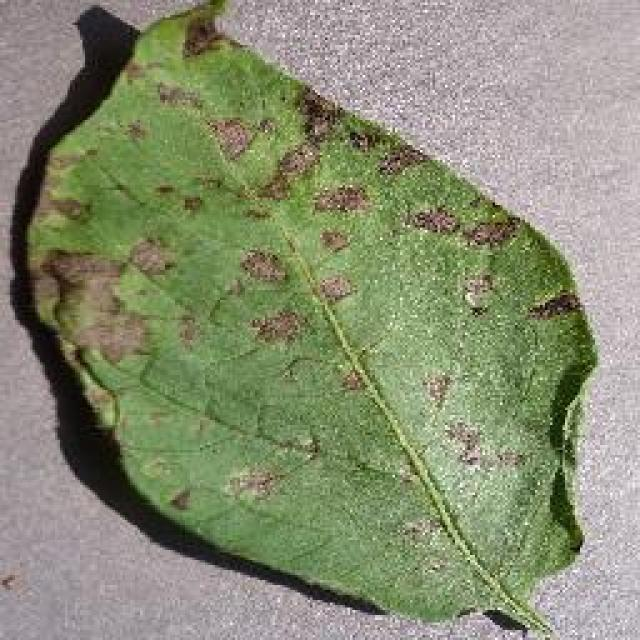Potato___Early_blight: (7, 0, 615, 640)
